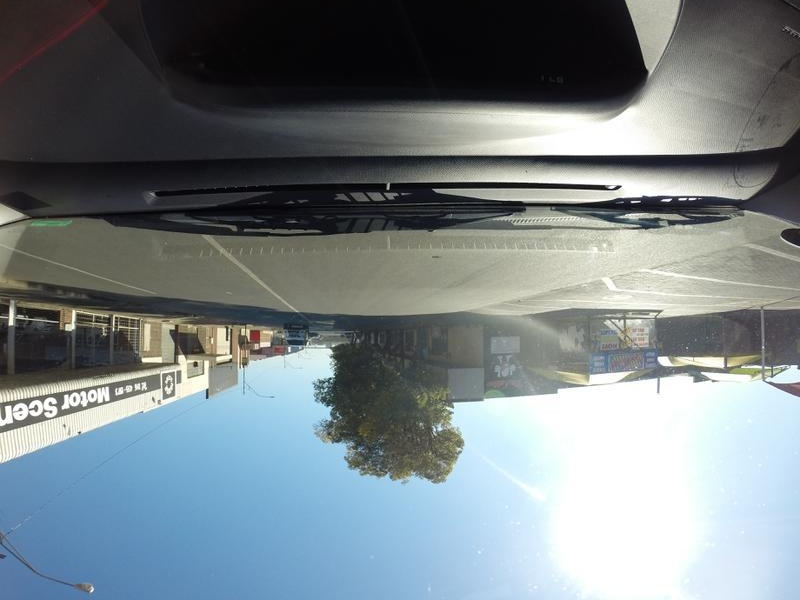pothole: (426, 253, 439, 261)
